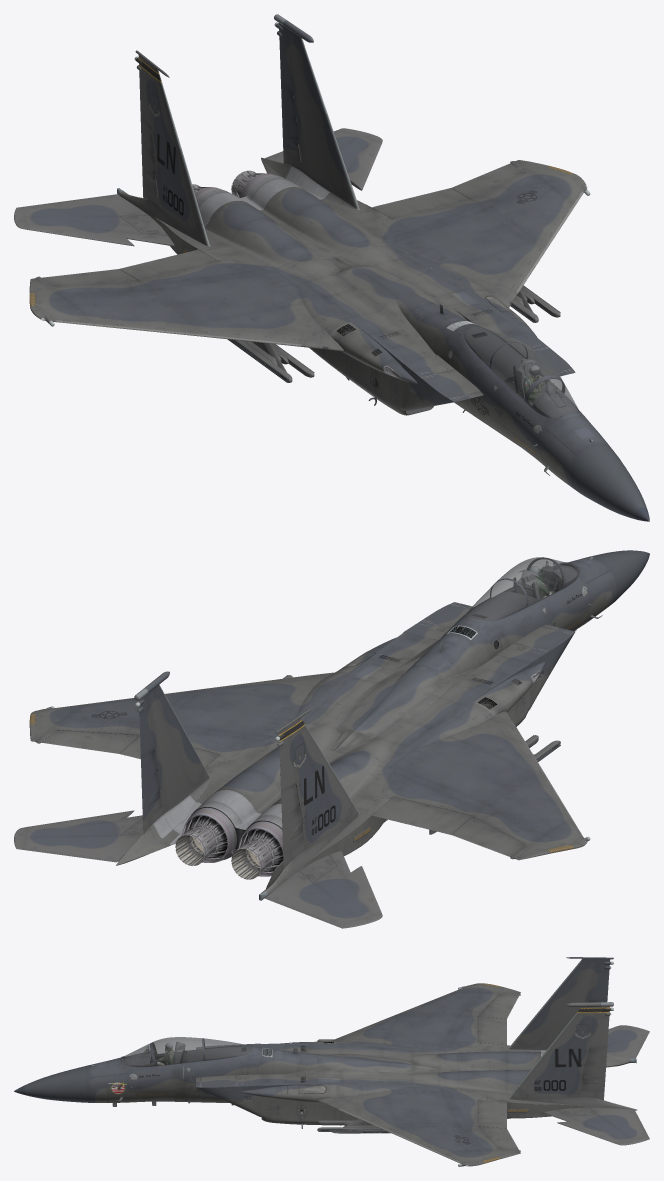
Rendered from jetdcs.glb.
3 renders of one model, top to bottom at view 1: azimuth 30°, elevation 25°; view 2: azimuth 150°, elevation 25°; view 3: azimuth 270°, elevation 25°, orthographic. The views are drawn at different scales.
Visible parts, largest first — view 1: f15centr, f15stab, f15wingr, f15wingl, f15nose, f15bottom, f15_glass_main, f15_cockpit; view 2: f15wingr, f15stab, f15centr, f15wingl, f15nose, f15bottom, f15_glass_main, f15_cockpit; view 3: f15stab, f15centr, f15nose, f15wingl, f15wingr, f15bottom, f15_glass_main, f15_cockpit.
Part boxes in pixels (x1=…): f15centr: x1=156, y1=187, x2=537, y2=414; f15stab: x1=14, y1=14, x2=382, y2=246; f15wingr: x1=29, y1=163, x2=584, y2=350; f15wingl: x1=33, y1=160, x2=587, y2=382; f15nose: x1=29, y1=22, x2=649, y2=521; f15bottom: x1=117, y1=157, x2=489, y2=415; f15_glass_main: x1=41, y1=31, x2=587, y2=418; f15_cockpit: x1=465, y1=326, x2=579, y2=418; f15wingr: x1=32, y1=702, x2=588, y2=879; f15stab: x1=14, y1=671, x2=382, y2=928; f15centr: x1=196, y1=632, x2=545, y2=861; f15wingl: x1=29, y1=672, x2=587, y2=860; f15nose: x1=29, y1=550, x2=649, y2=853; f15bottom: x1=116, y1=655, x2=530, y2=900; f15_glass_main: x1=137, y1=557, x2=587, y2=842; f15_cockpit: x1=465, y1=557, x2=579, y2=620; f15stab: x1=508, y1=957, x2=649, y2=1145; f15centr: x1=241, y1=1041, x2=575, y2=1105; f15nose: x1=14, y1=961, x2=613, y2=1166; f15wingl: x1=317, y1=994, x2=520, y2=1166; f15wingr: x1=318, y1=983, x2=520, y2=1166; f15bottom: x1=260, y1=1045, x2=637, y2=1128; f15_glass_main: x1=123, y1=966, x2=611, y2=1166; f15_cockpit: x1=123, y1=1039, x2=252, y2=1066.
Bounding box in the file's own units: 13.13 × 4.5 × 19.49.
Materials: 14 (12 with a texture image).
